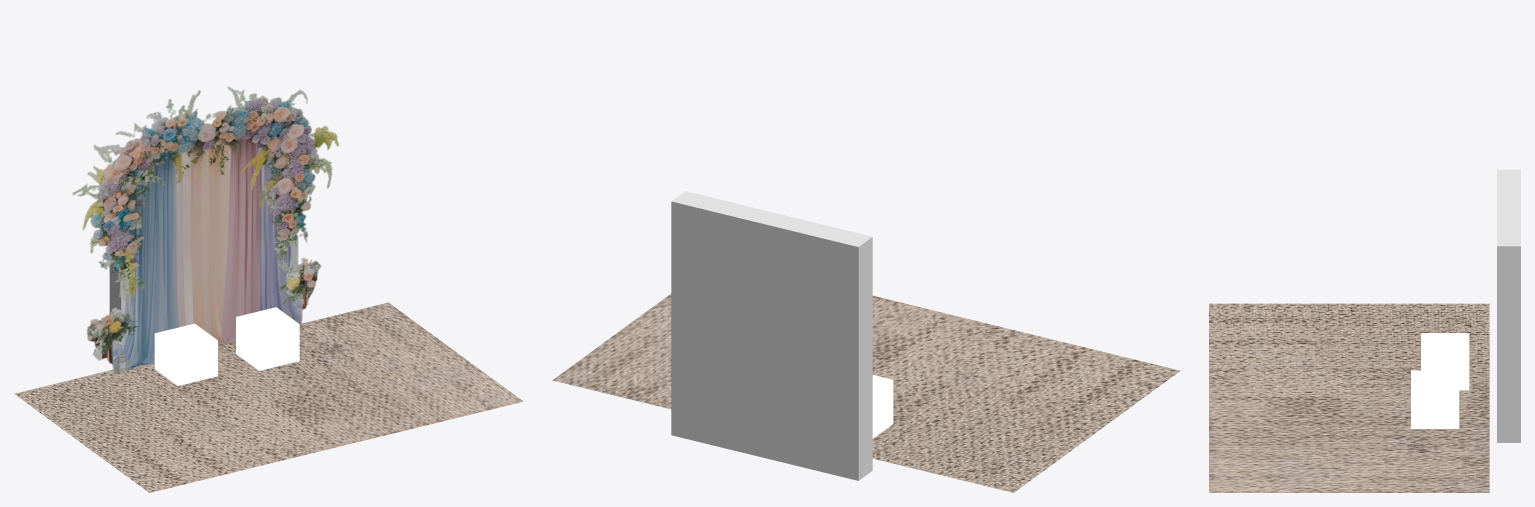
The model's file is light-pink-valima-decoration.glb.
3 views of the same model, side by side, from view 1: azimuth 30°, elevation 25°; view 2: azimuth 150°, elevation 25°; view 3: azimuth 270°, elevation 25° (orthographic). The views are drawn at different scales.
Visible parts, largest first — view 1: Plane (×2), Box (×2); view 2: Box (×2), Plane; view 3: Plane, Box (×3).
Part boxes in pixels (x1,y1,x2,y2): Plane (×2): (14,86,523,492); Box (×2): (154,307,299,385); Box (×2): (671,191,893,480); Plane: (552,293,1180,492); Plane: (1209,303,1489,492); Box (×3): (1411,169,1520,442).
Bounding box in the file's own units: 9.29 × 7.4 × 6.48.
Materials: 5 (2 with a texture image).
